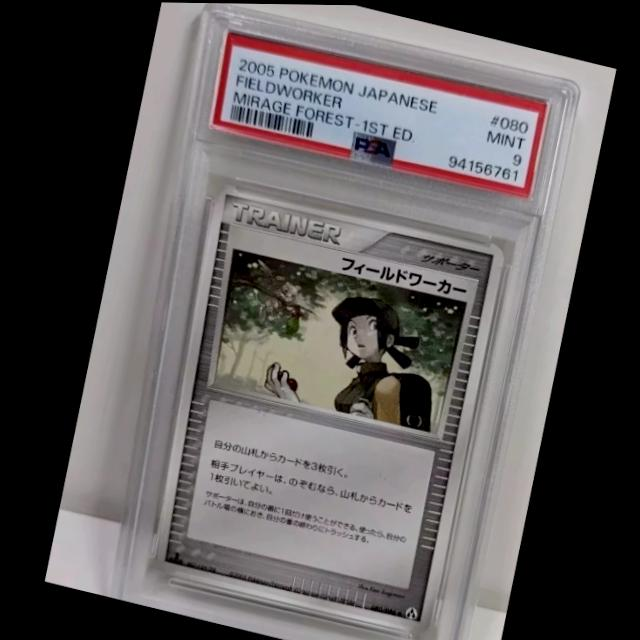card: (150, 179, 503, 636)
psa_label: (208, 28, 546, 197)
psa_slab: (101, 2, 583, 640)
